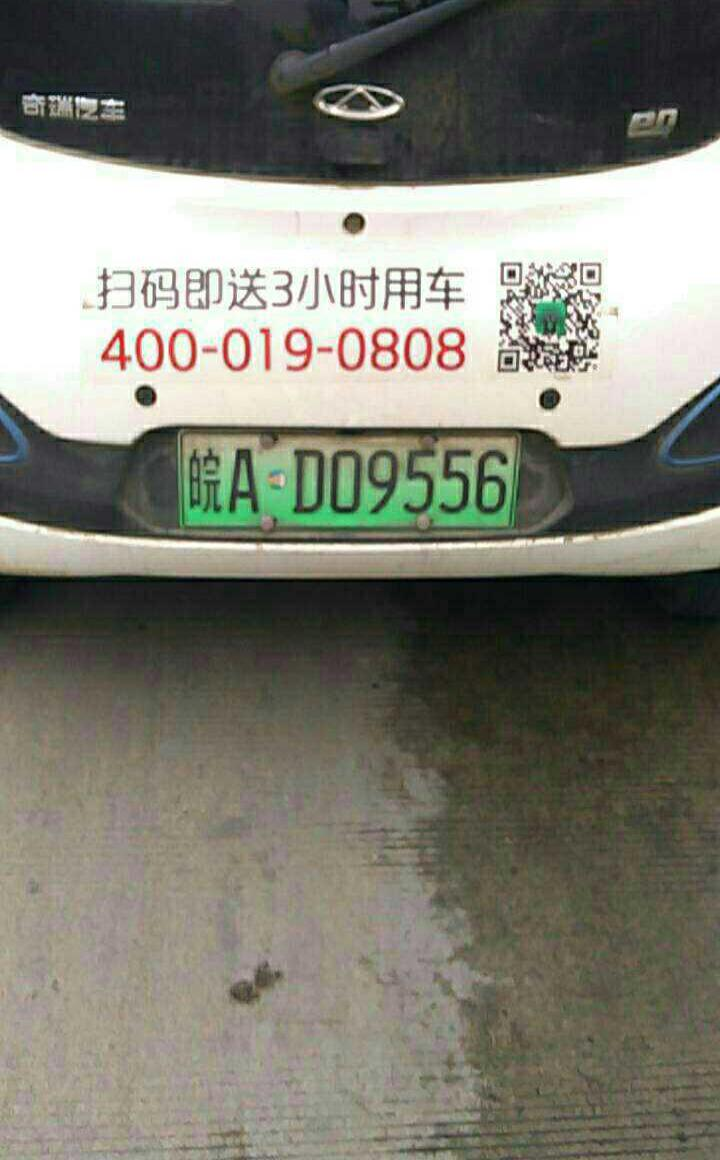car_id: (177, 430, 520, 528)
